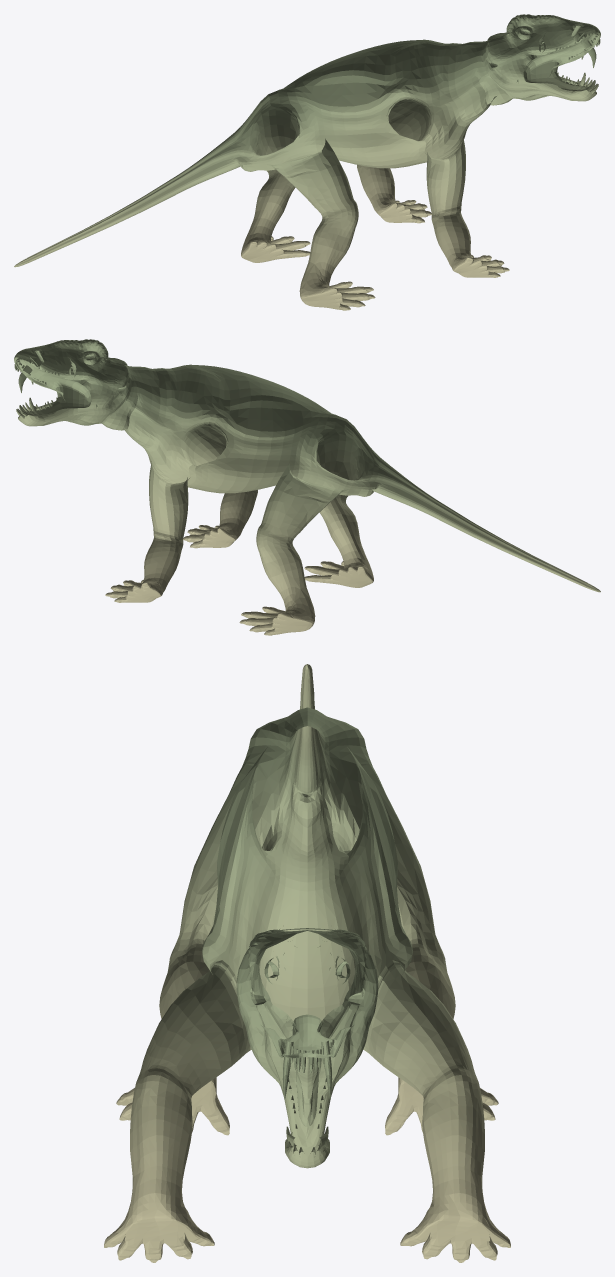
The model's file is doliosauriscus.glb.
3 renders of one model, top to bottom at view 1: azimuth 30°, elevation 25°; view 2: azimuth 150°, elevation 25°; view 3: azimuth 270°, elevation 25°, orthographic. The views are drawn at different scales.
Parts seen in each view (by area): view 1: world; view 2: world; view 3: world.
Part boxes in pixels (x1,y1,x2,y2): world: [14, 14, 600, 310]; world: [14, 339, 600, 635]; world: [104, 664, 510, 1262].
Bounding box in the file's own units: 3.9 × 1.35 × 1.17.
